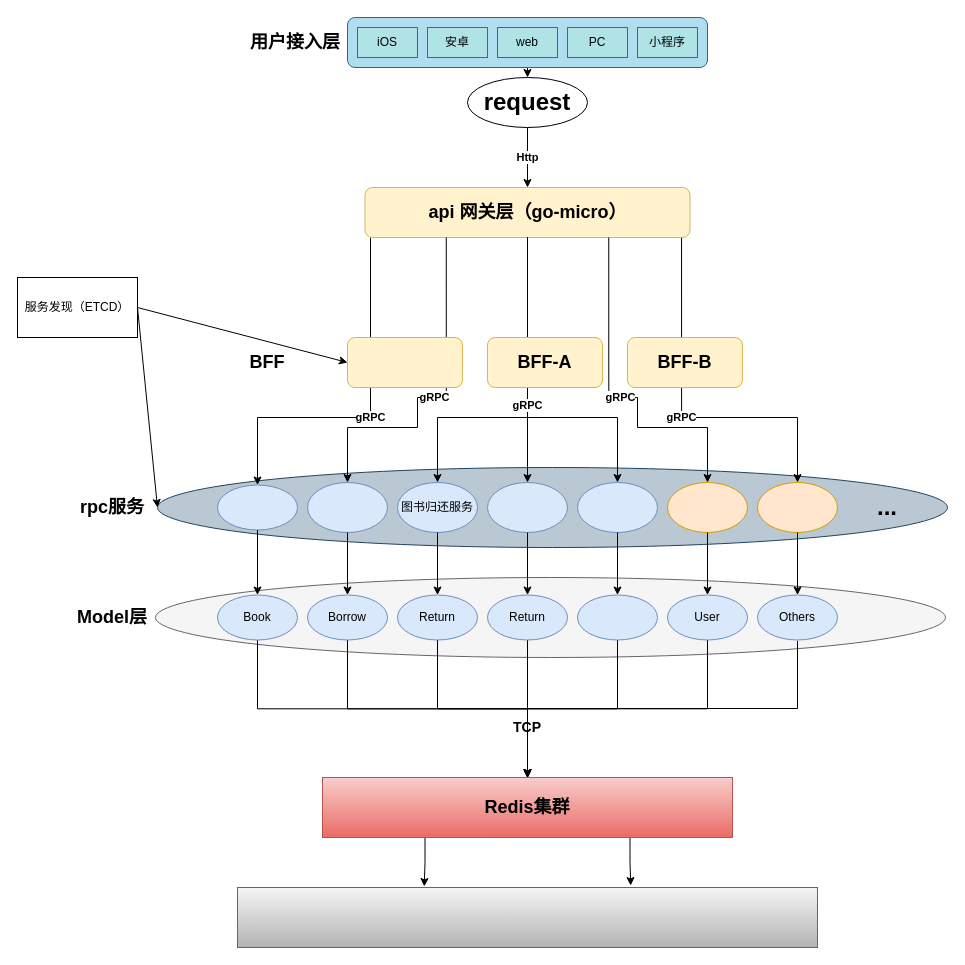
The diagram is 965 pixels wide and 965 high, and some of its shapes have lost their labels. Each missing label, with the centre of its shape:
"Appointment" belongs at point 617,617.
"BFF-C" belongs at point 404,362.
"Mysql集群" belongs at point 527,917.
"其他拓展服务" belongs at point 797,507.
"图书借阅服务" belongs at point 347,507.
"图书管理服务" belongs at point 257,507.
"图书预约服务" belongs at point 527,507.
"用户管理服务" belongs at point 707,507.
"超期处理服务" belongs at point 617,507.
